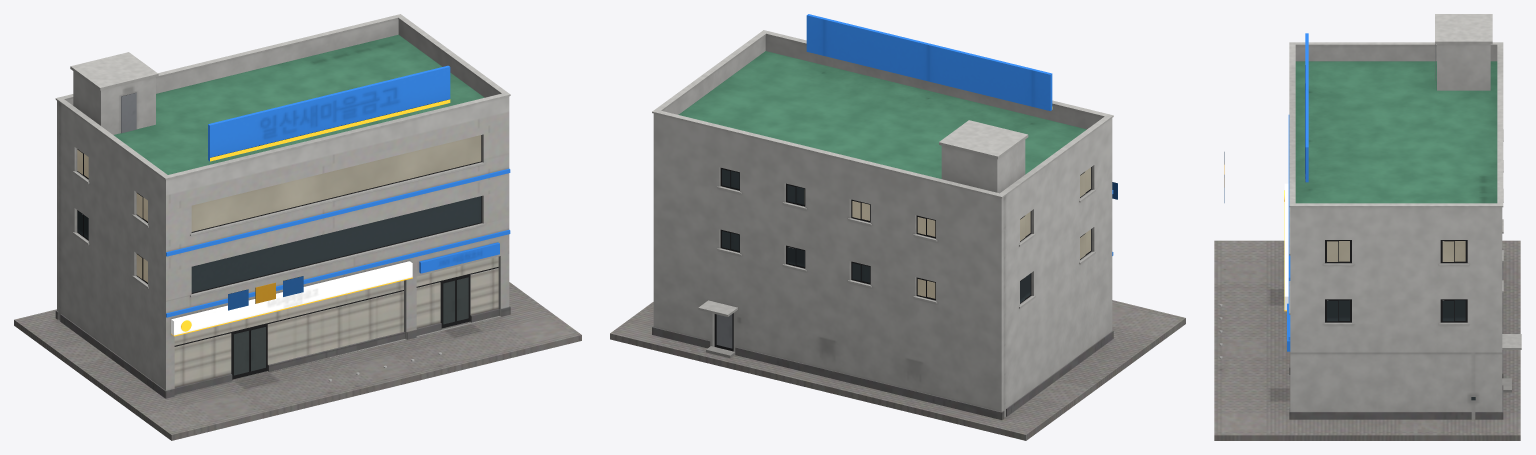
File: IlsanMGBank_LOD2.fbx
The picture shows the model from 3 angles, left to right: view 1: azimuth 30°, elevation 25°; view 2: azimuth 150°, elevation 25°; view 3: azimuth 270°, elevation 25°; orthographic projection. The views are drawn at different scales.
Visible parts, largest first — view 1: IlsanMGBank_LOD2; view 2: IlsanMGBank_LOD2; view 3: IlsanMGBank_LOD2.
Part boxes in pixels (<box>): IlsanMGBank_LOD2: <box>14,14,581,440</box>; IlsanMGBank_LOD2: <box>610,14,1185,440</box>; IlsanMGBank_LOD2: <box>1214,14,1521,440</box>.
Bounding box in the file's own units: 23.9 × 14.5 × 15.95.
1 material, 1 textured.
